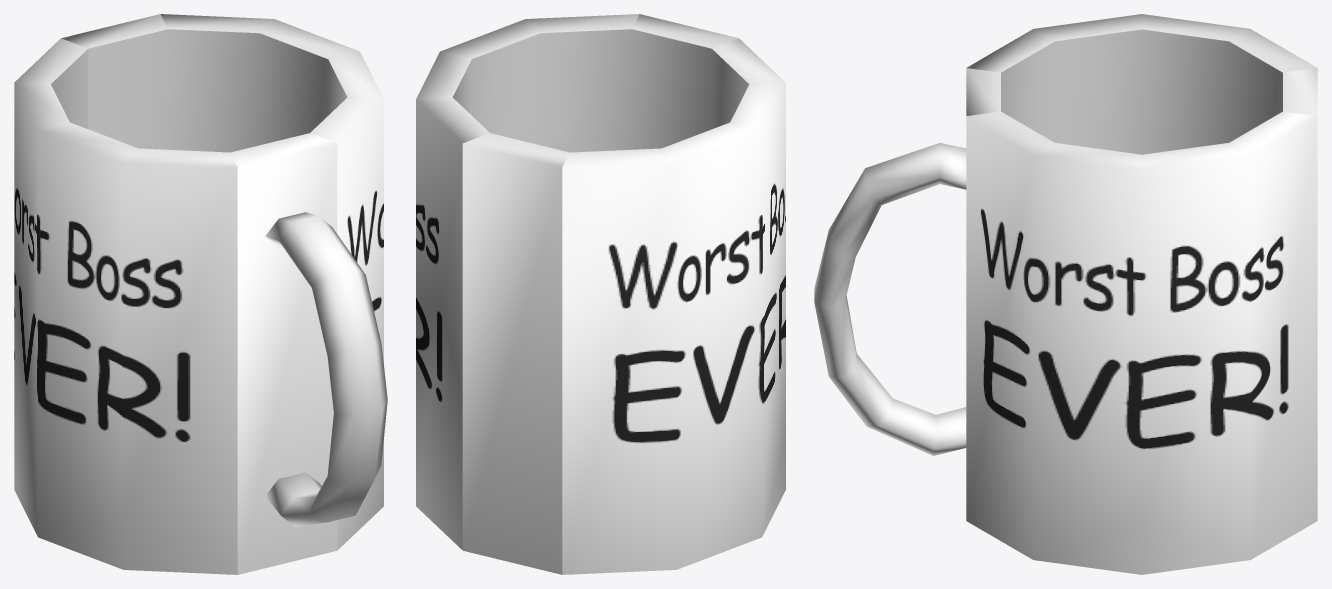
Rendered from Mug_lod1.fbx.
The picture shows the model from 3 angles, left to right: view 1: azimuth 30°, elevation 25°; view 2: azimuth 150°, elevation 25°; view 3: azimuth 270°, elevation 25°; orthographic projection.
Visible parts, largest first — view 1: mug, mug_handle; view 2: mug; view 3: mug, mug_handle.
Boxes of the visible parts, left/top/right/bottom form: mug: left=14, top=14, right=383, bottom=574; mug_handle: left=265, top=212, right=387, bottom=526; mug: left=416, top=14, right=785, bottom=574; mug: left=966, top=14, right=1317, bottom=574; mug_handle: left=814, top=143, right=966, bottom=455.
Bounding box in the file's own units: 1.4 × 1.69 × 1.91.
